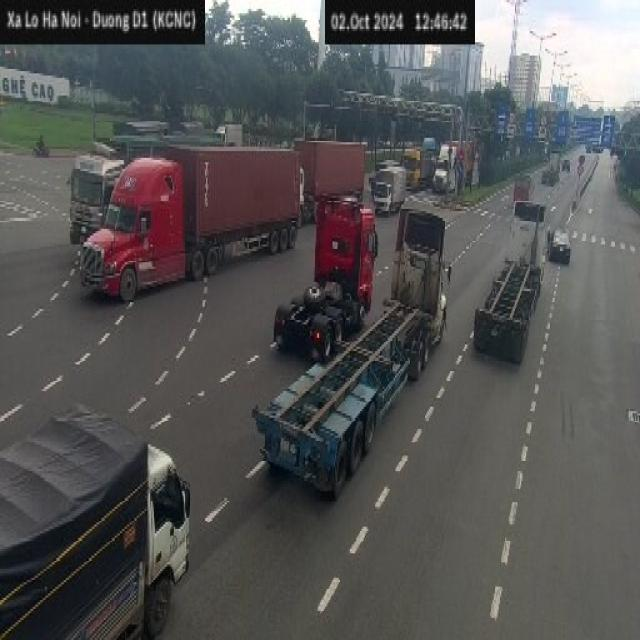car: (540, 223, 584, 283), (517, 164, 537, 208), (560, 152, 572, 185), (578, 148, 588, 181)
container-truck: (260, 208, 438, 502), (83, 154, 288, 278), (461, 188, 545, 366), (287, 198, 373, 344), (299, 134, 372, 219), (116, 120, 248, 150), (420, 118, 448, 201), (440, 132, 462, 205)
truck: (2, 384, 193, 640), (72, 158, 122, 231), (372, 160, 413, 220)
